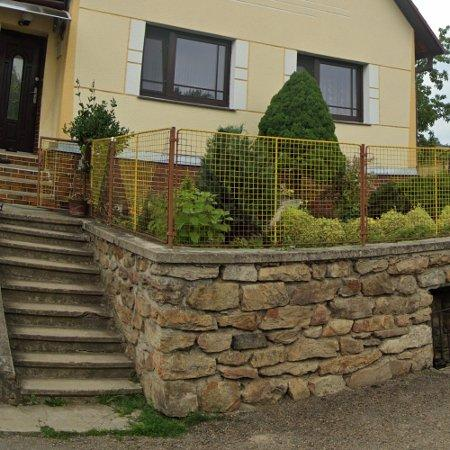stairs: (0, 215, 142, 398), (0, 149, 37, 206)
